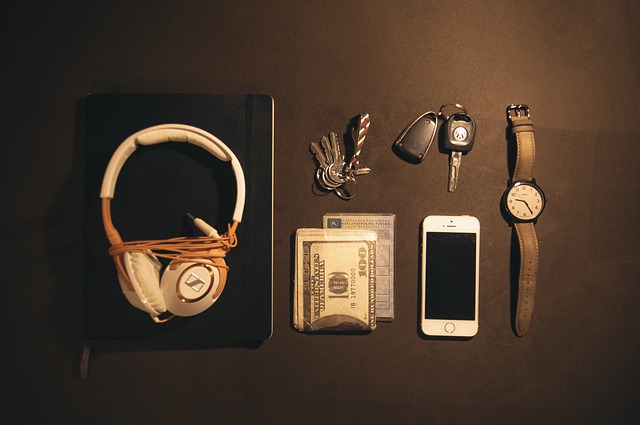headphones: (100, 124, 245, 316)
